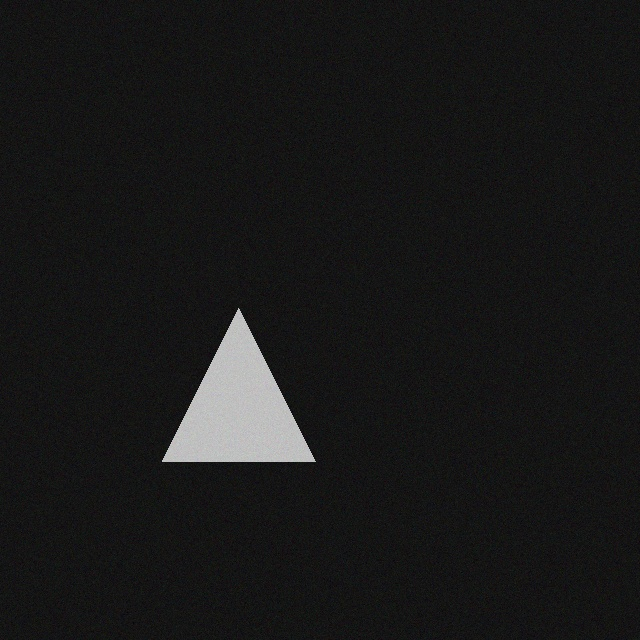triangle: (173, 303, 326, 456)
